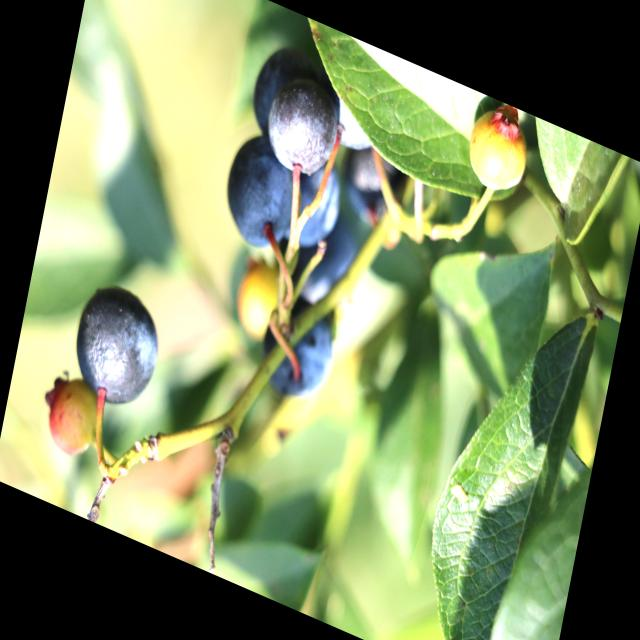blueberry: (61, 268, 171, 424), (212, 117, 312, 267), (264, 190, 367, 334), (252, 280, 345, 419), (255, 60, 348, 193), (240, 32, 326, 166), (277, 142, 352, 269), (336, 131, 416, 241), (322, 79, 388, 169)
blueberry-unripe: (462, 103, 530, 198), (230, 252, 291, 350), (42, 374, 108, 461)
